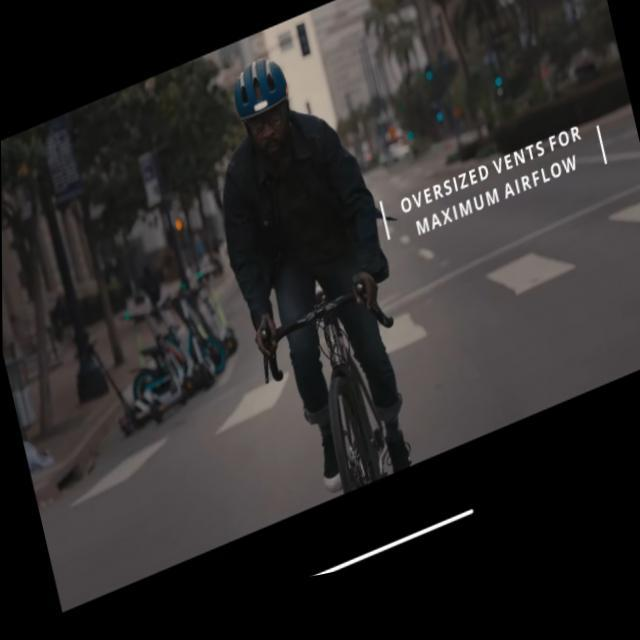Helmet: (231, 56, 303, 160)
